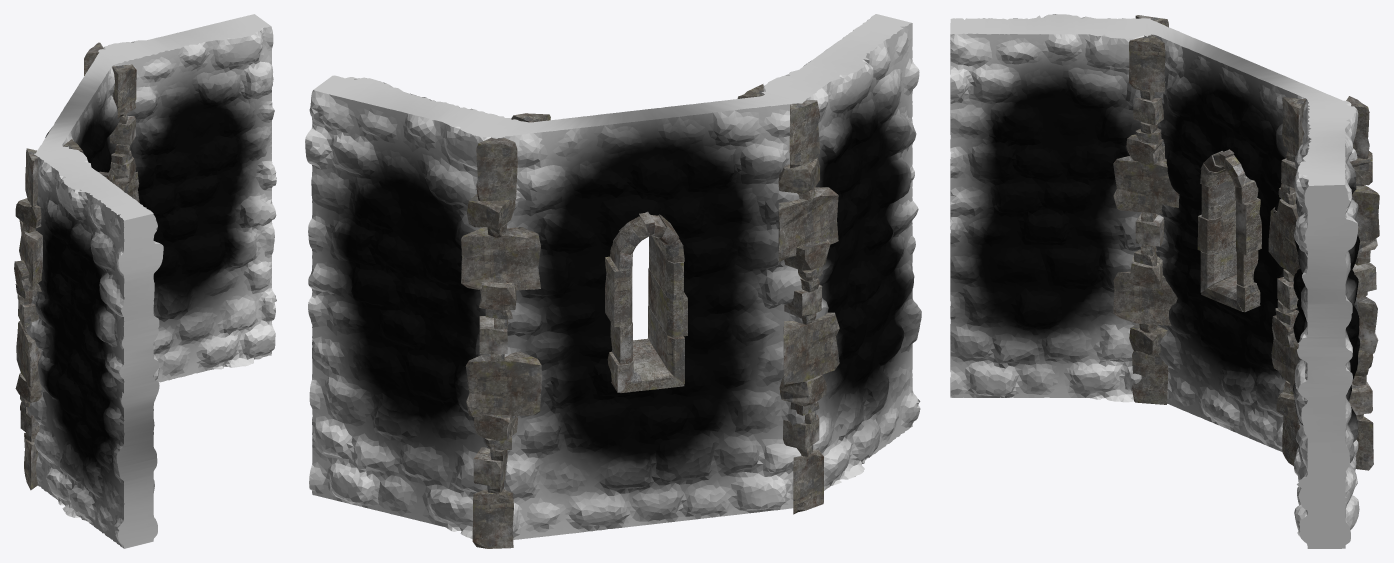
Rendered from SM_CastleTower_Window_A_11.fbx.
3 renders of one model, left to right at view 1: azimuth 30°, elevation 25°; view 2: azimuth 150°, elevation 25°; view 3: azimuth 270°, elevation 25°, orthographic. The views are drawn at different scales.
Visible parts, largest first — view 1: SM_CastleTower_Window_A_11_LOD0; view 2: SM_CastleTower_Window_A_11_LOD0; view 3: SM_CastleTower_Window_A_11_LOD0.
Part boxes in pixels (box(x1,y1,x2,y2)): SM_CastleTower_Window_A_11_LOD0: box(14, 14, 276, 548); SM_CastleTower_Window_A_11_LOD0: box(305, 14, 921, 548); SM_CastleTower_Window_A_11_LOD0: box(950, 14, 1379, 548).
Size of the model in its own units: 417 by 428 by 401.
